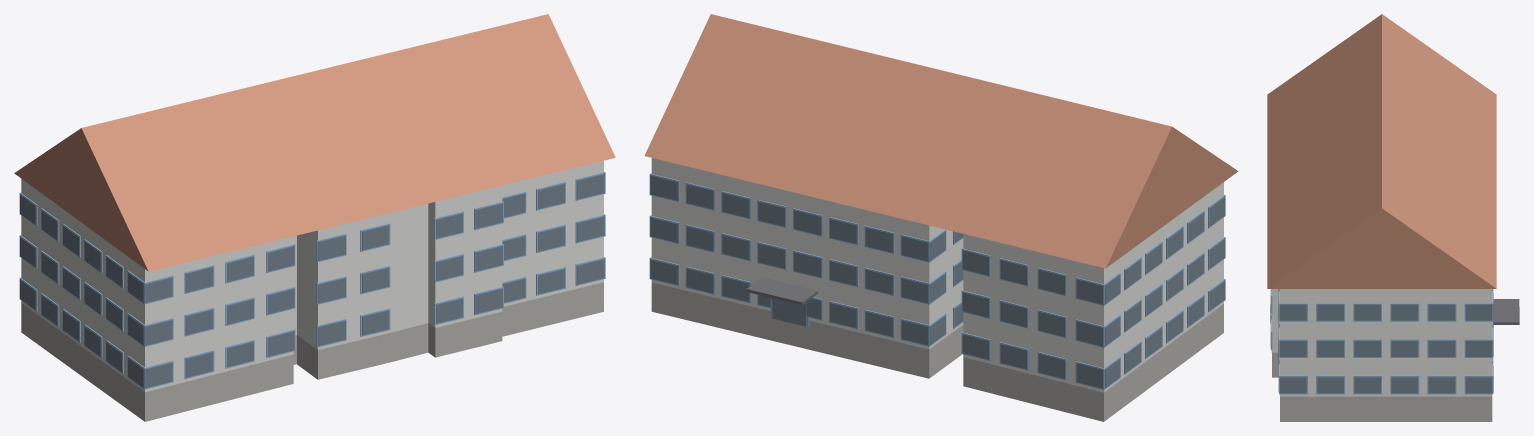
Rendered from school-grundschule-kandern.glb.
The picture shows the model from 3 angles, left to right: view 1: azimuth 30°, elevation 25°; view 2: azimuth 150°, elevation 25°; view 3: azimuth 270°, elevation 25°; orthographic projection. The views are drawn at different scales.
Visible parts, largest first — view 1: building; view 2: building; view 3: building.
Boxes of the visible parts, <box> form: building: <box>14,14,615,421</box>; building: <box>644,14,1238,421</box>; building: <box>1267,14,1519,421</box>.
Bounding box in the file's own units: 41.37 × 21.4 × 22.7.
